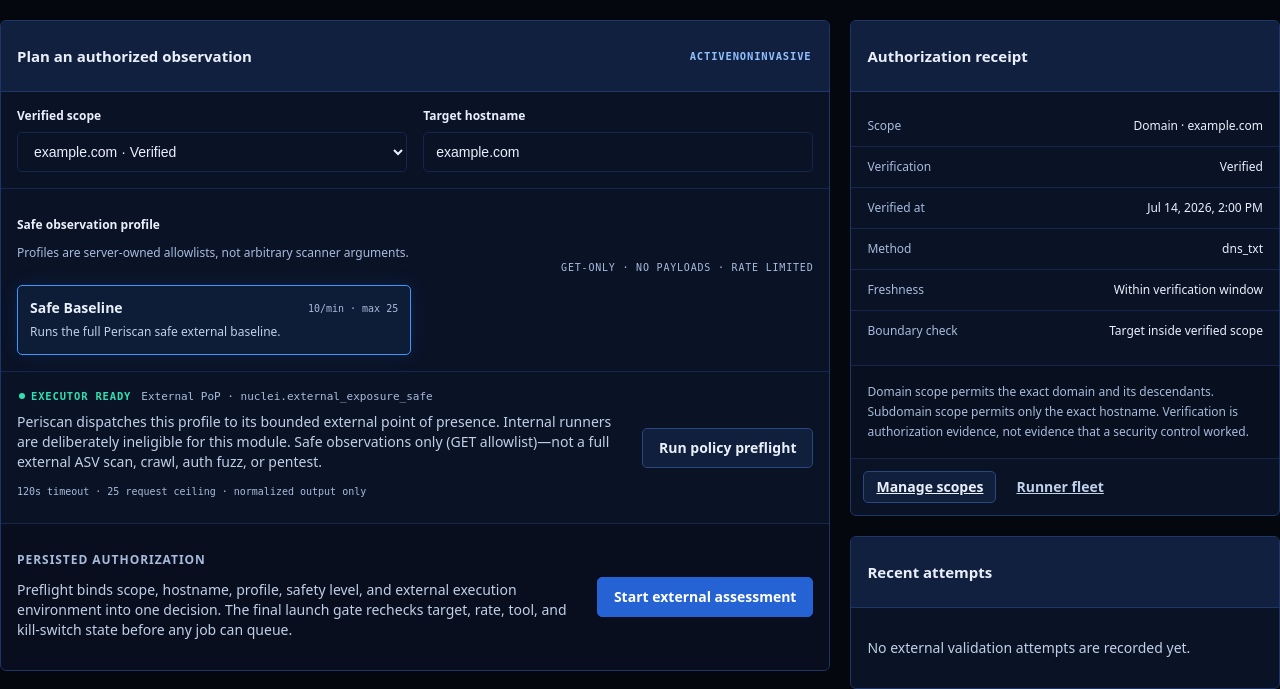
Test: ExternalValidationProfiles › follows the inline guide from verified target to a completed run
(page scrolled)
Expected: the text "Safe Baseline" is shown, left=30, top=298, right=123, bottom=318
Expected: the text "Target inside verified scope" is shown, left=1109, top=322, right=1263, bottom=339
Click the button "Run policy preflight": x=728, y=448 left=642, top=428, right=814, bottom=468
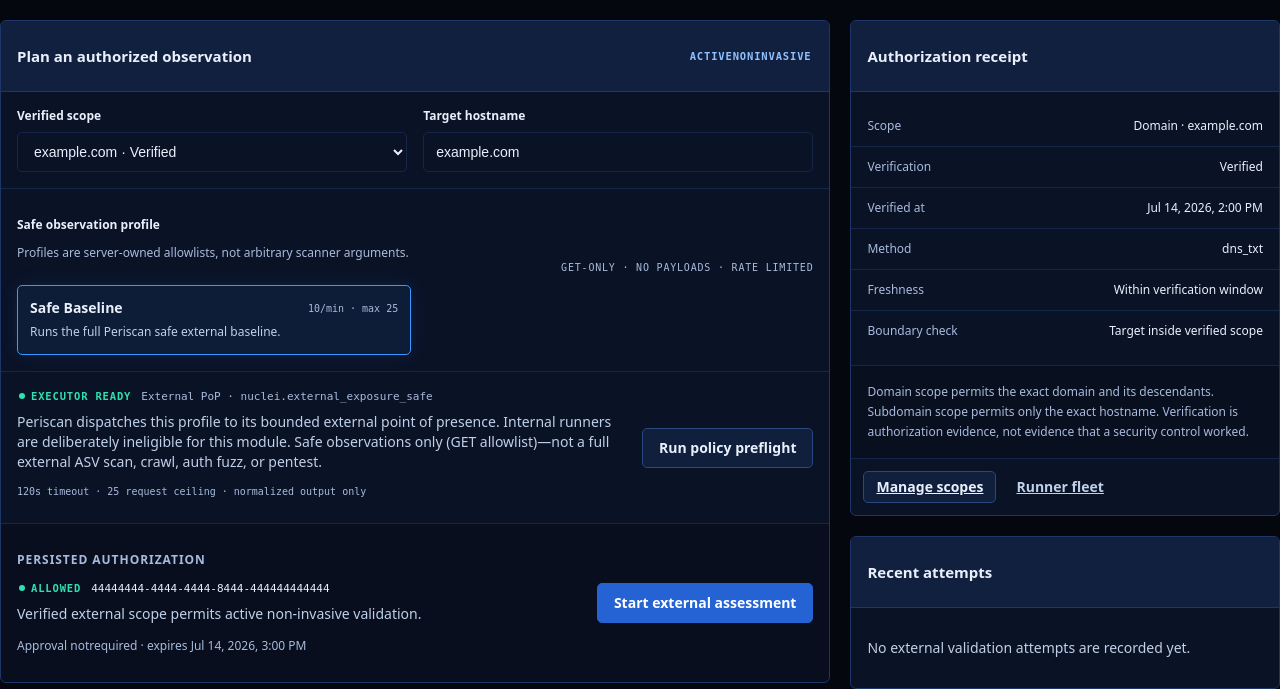
Now the text "44444444-4444-4444-8444-444444444444" is shown, box left=91, top=582, right=330, bottom=595
Click the button "Start external assessment": x=705, y=603 left=597, top=583, right=813, bottom=623
(page scrolled)
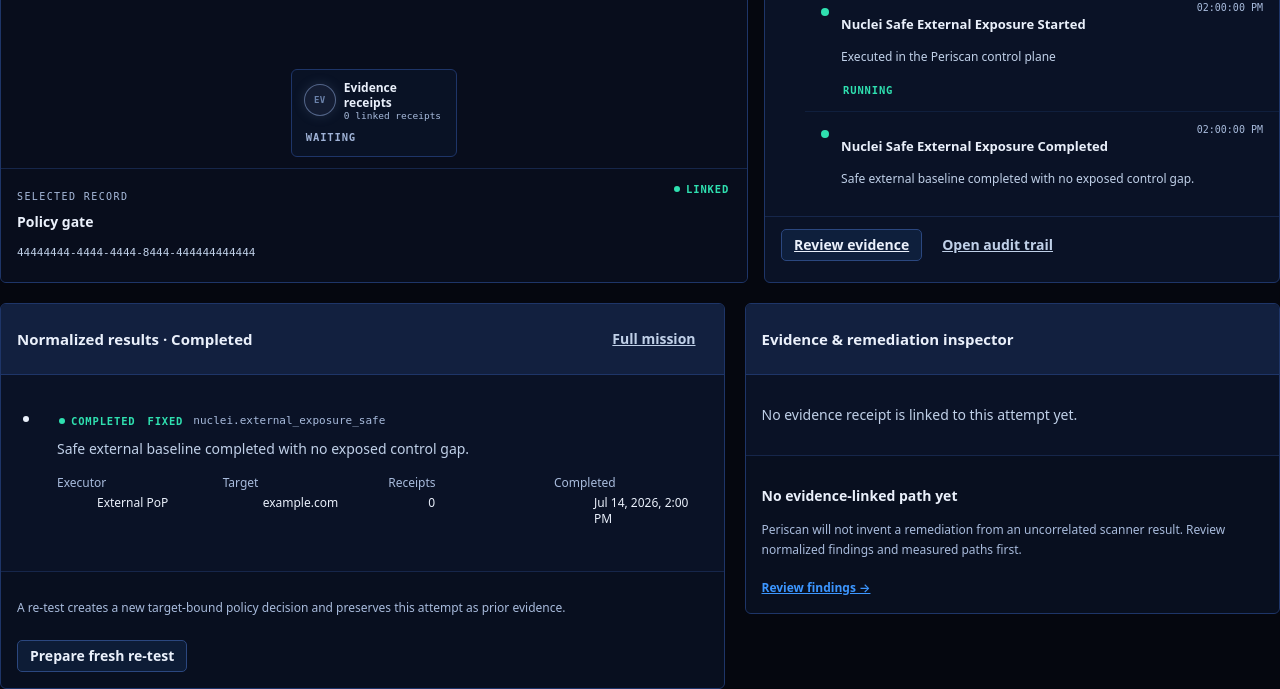
Now the text "Safe external baseline completed with no exposed control gap." is shown 2 times, box left=841, top=170, right=1194, bottom=187; left=57, top=439, right=469, bottom=458
Now the button "Prepare fresh re-test" is shown, box left=17, top=640, right=187, bottom=672
Now the heading "Normalized results · Completed" is shown, box left=17, top=329, right=252, bottom=349
